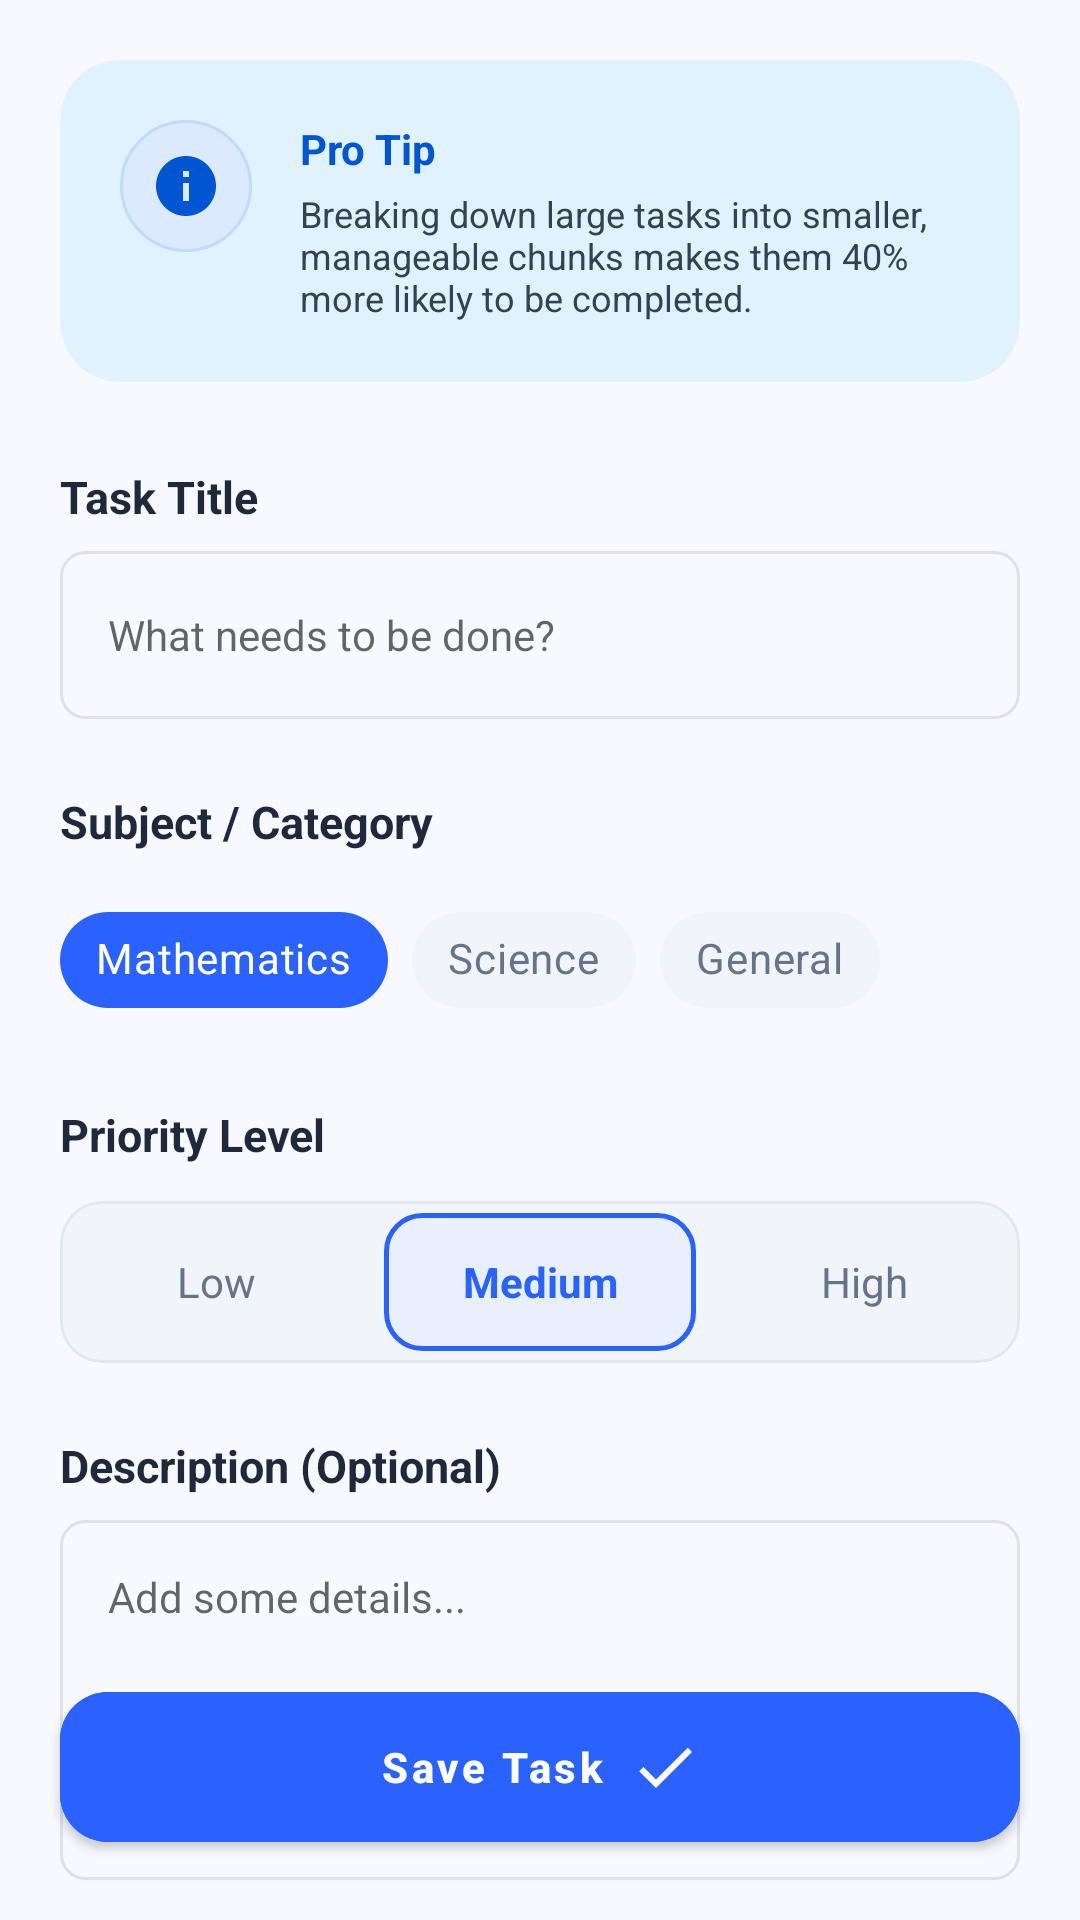

Locate icon controls on the screen. Image size 1080*1920, boxes as (x1, y1, x2, y2).
info: (120, 120, 252, 252)
